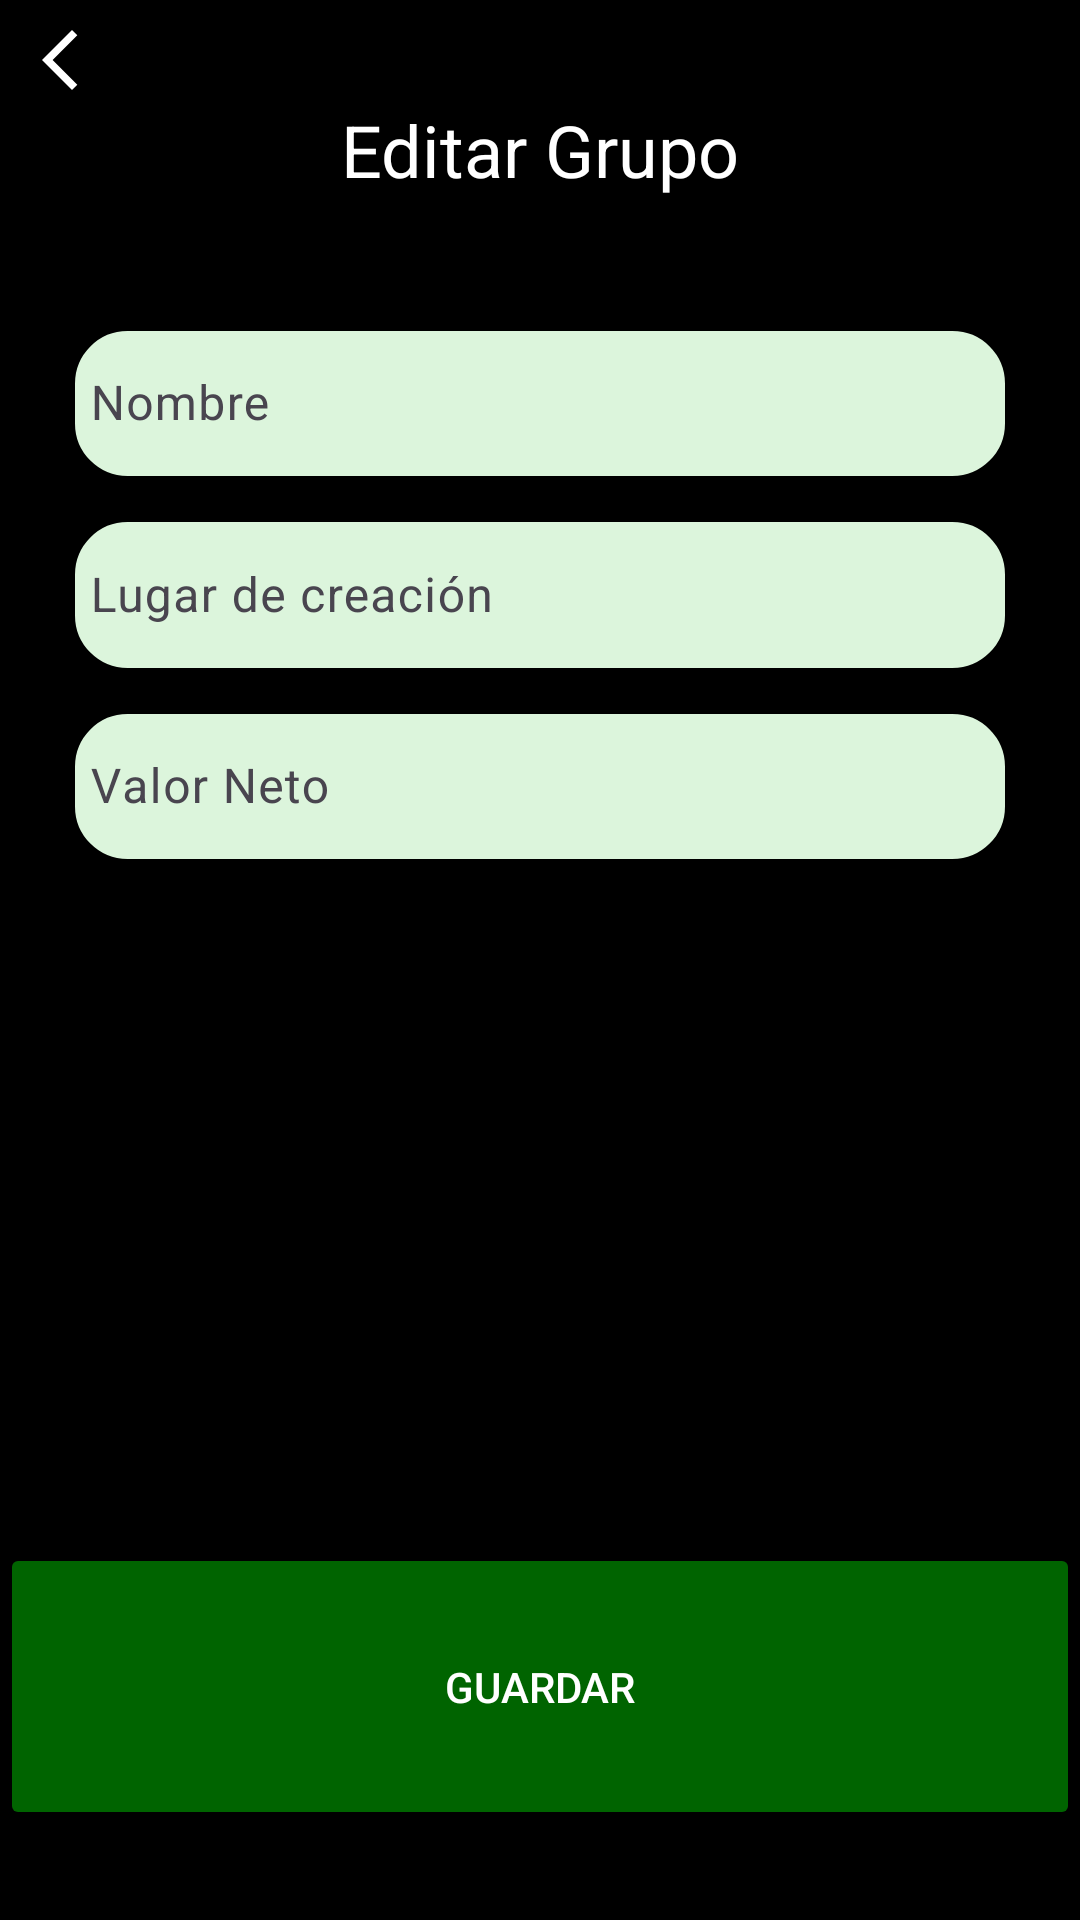

Icons on this 1080w x 1920h Android screen, each with the point to tap as (x,y):
flechita atras blanco: (59,60)
